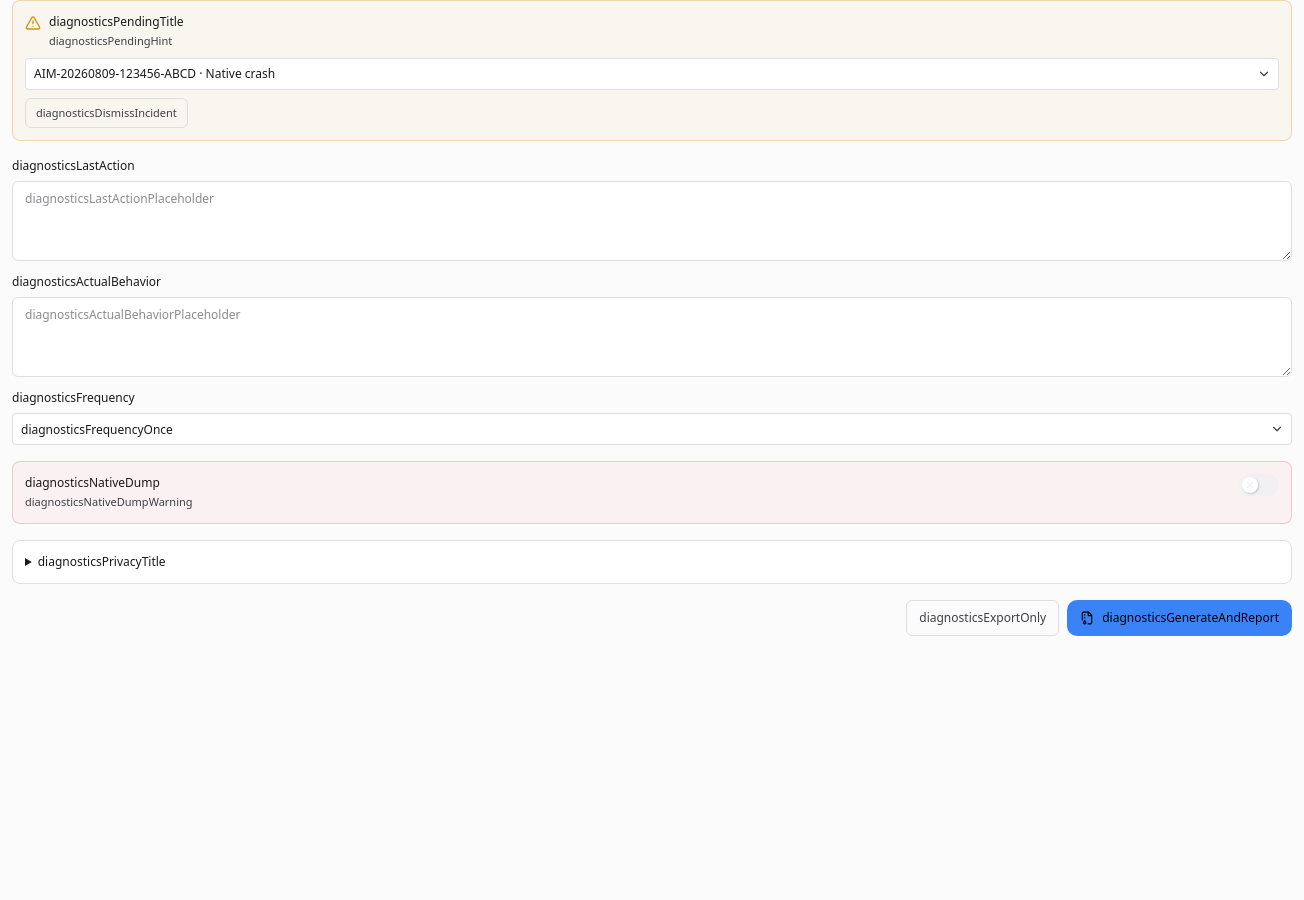
Test: DiagnosticsReportForm › copies the issue text and exposes retry when GitHub cannot open
Expected: the checkbox named "diagnosticsNativeDump" is shown, [1239,474,1279,496]
Type "Opened settings" into the text box with placeholder "diagnosticsLastActionPlaceholder" at (652, 221), box [12,181,1292,261]
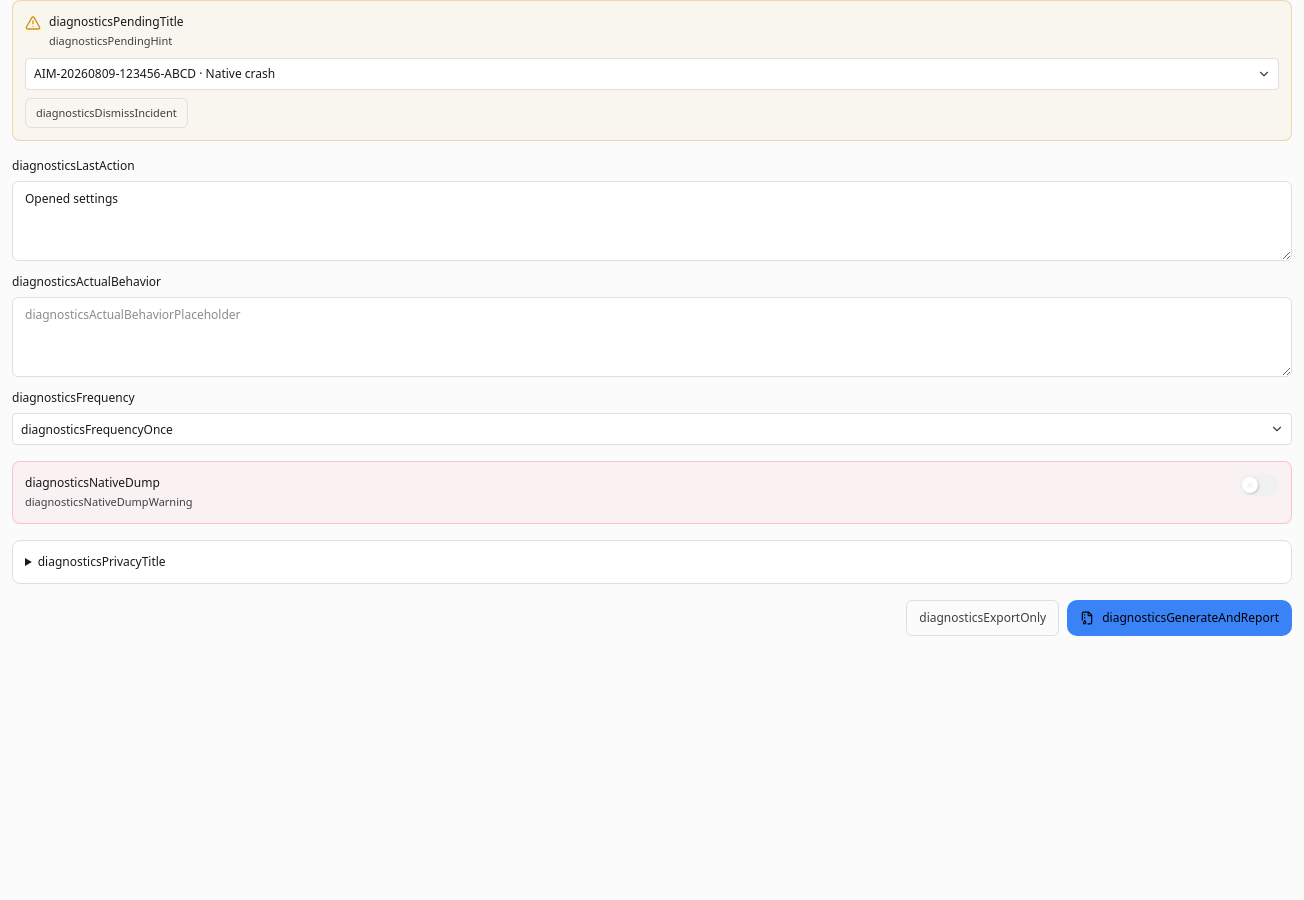
Click the button "diagnosticsGenerateAndReport" at (1180, 618), box [1067,600,1292,636]
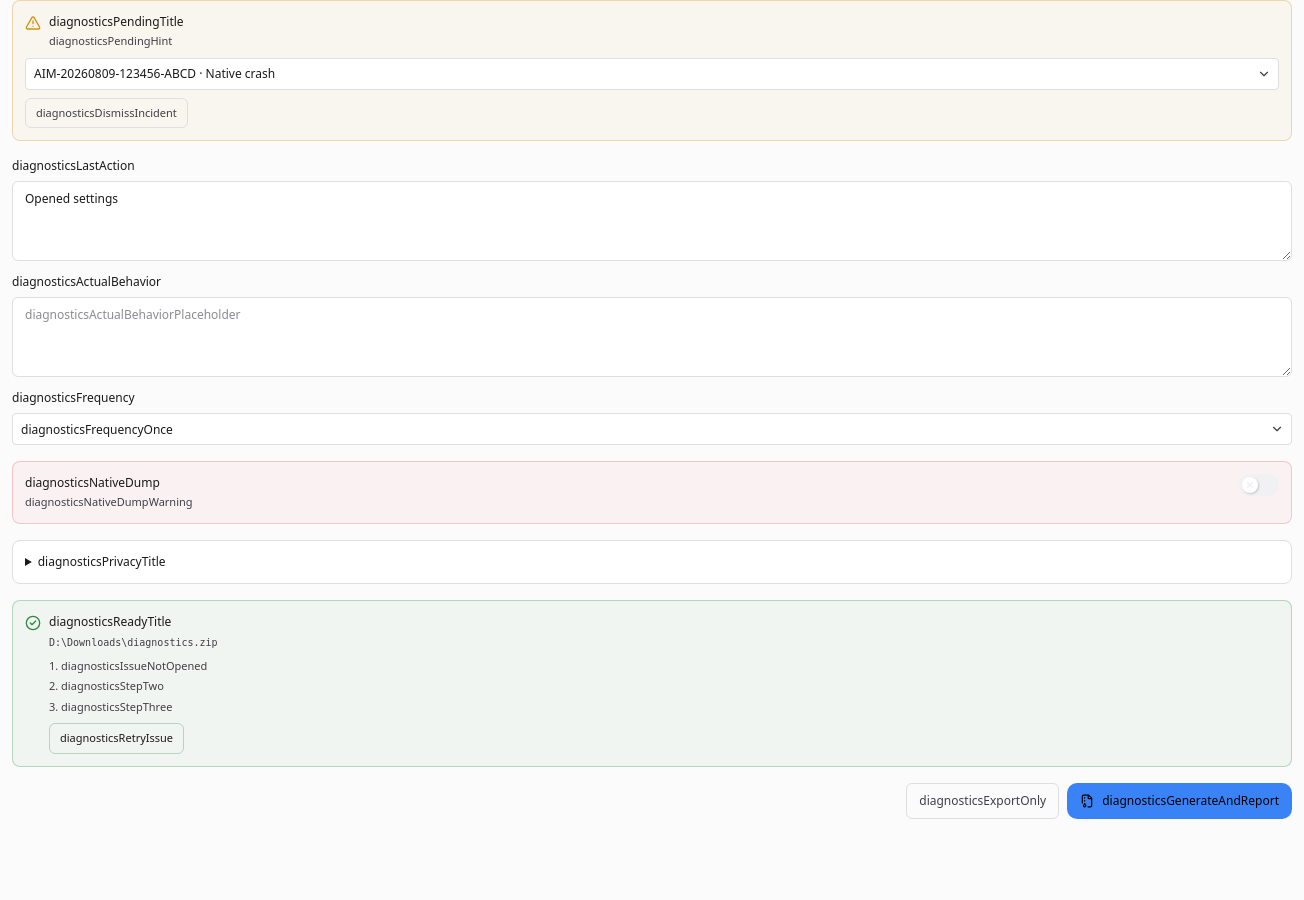
Expected: the button "diagnosticsRetryIssue" is shown, [49,723,184,754]
